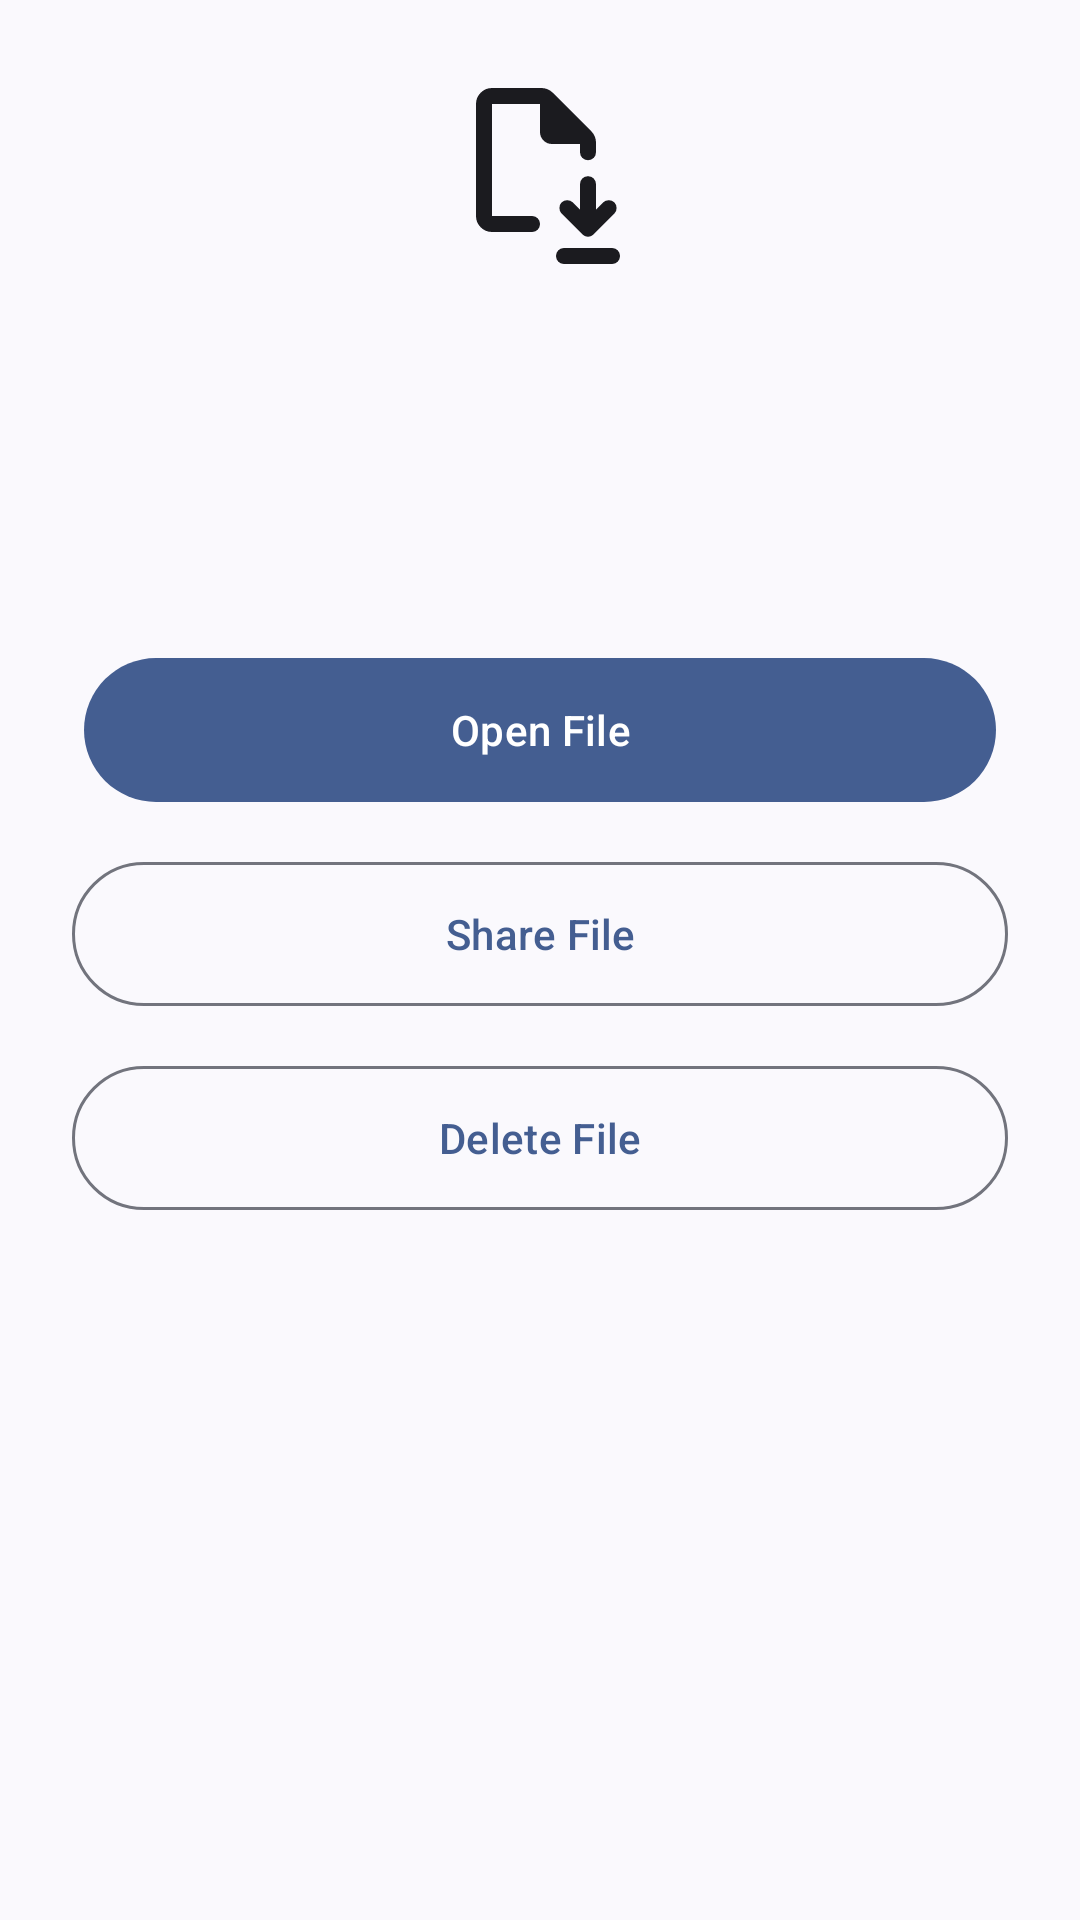

Icon bounding boxes for this 1080 x 1920 phone screenshot, format (x1, y1, x2, y2):
file save: (476, 88, 620, 264)
